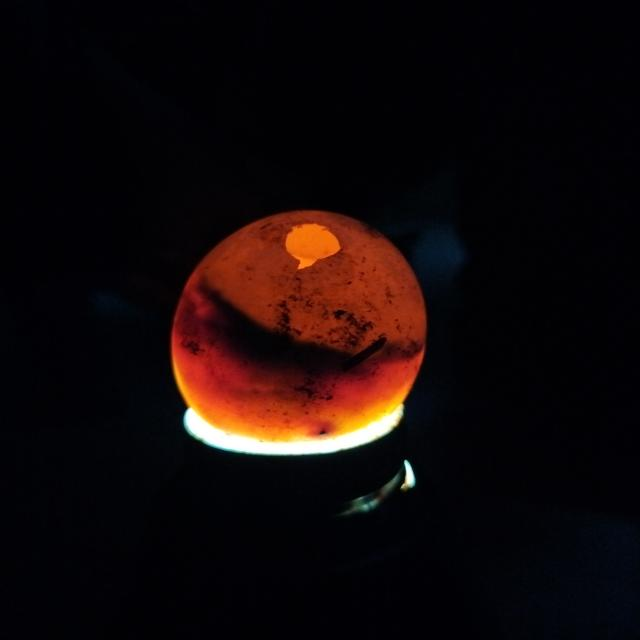Area Infectada: (175, 274, 424, 407)
